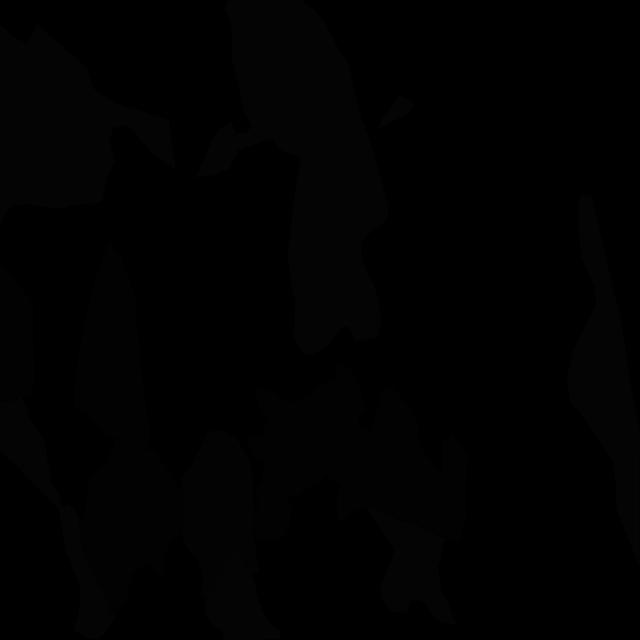cardboard: (246, 364, 468, 543), (79, 439, 182, 614), (74, 241, 150, 448), (0, 264, 34, 403)
metal: (181, 431, 259, 599)
soft_plastic: (196, 0, 389, 356), (0, 24, 175, 227), (0, 396, 116, 640), (567, 194, 640, 568), (368, 506, 456, 625), (204, 547, 280, 640), (378, 96, 414, 128)
